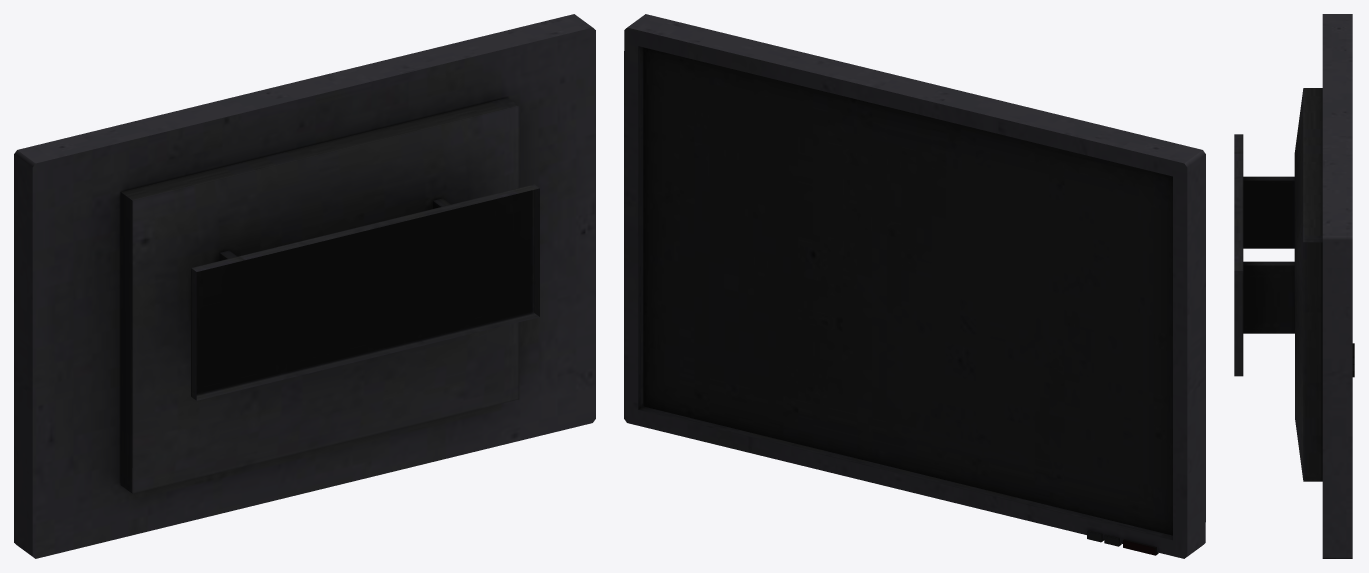
Rendered from tv_monitor.glb.
3 views of the same model, side by side, from view 1: azimuth 30°, elevation 25°; view 2: azimuth 150°, elevation 25°; view 3: azimuth 270°, elevation 25° (orthographic). The views are drawn at different scales.
Visible parts, largest first — view 1: Object_2; view 2: Object_2; view 3: Object_2.
Part boxes in pixels (x1=…): Object_2: x1=14, y1=14, x2=595, y2=558; Object_2: x1=624, y1=14, x2=1205, y2=558; Object_2: x1=1234, y1=14, x2=1354, y2=558.
Size of the model in its own units: 3.97 by 2.68 by 0.9025.
1 material, 1 textured.
